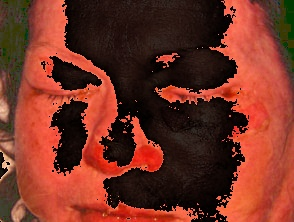SJS-TEN: (10, 0, 294, 222)
